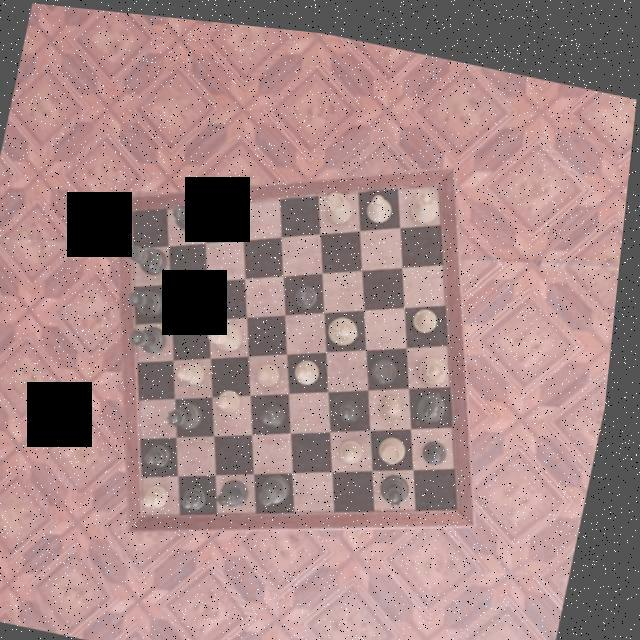chess-table-corners: (121, 192, 152, 225), (448, 483, 478, 507), (429, 159, 457, 183), (140, 497, 164, 523)
